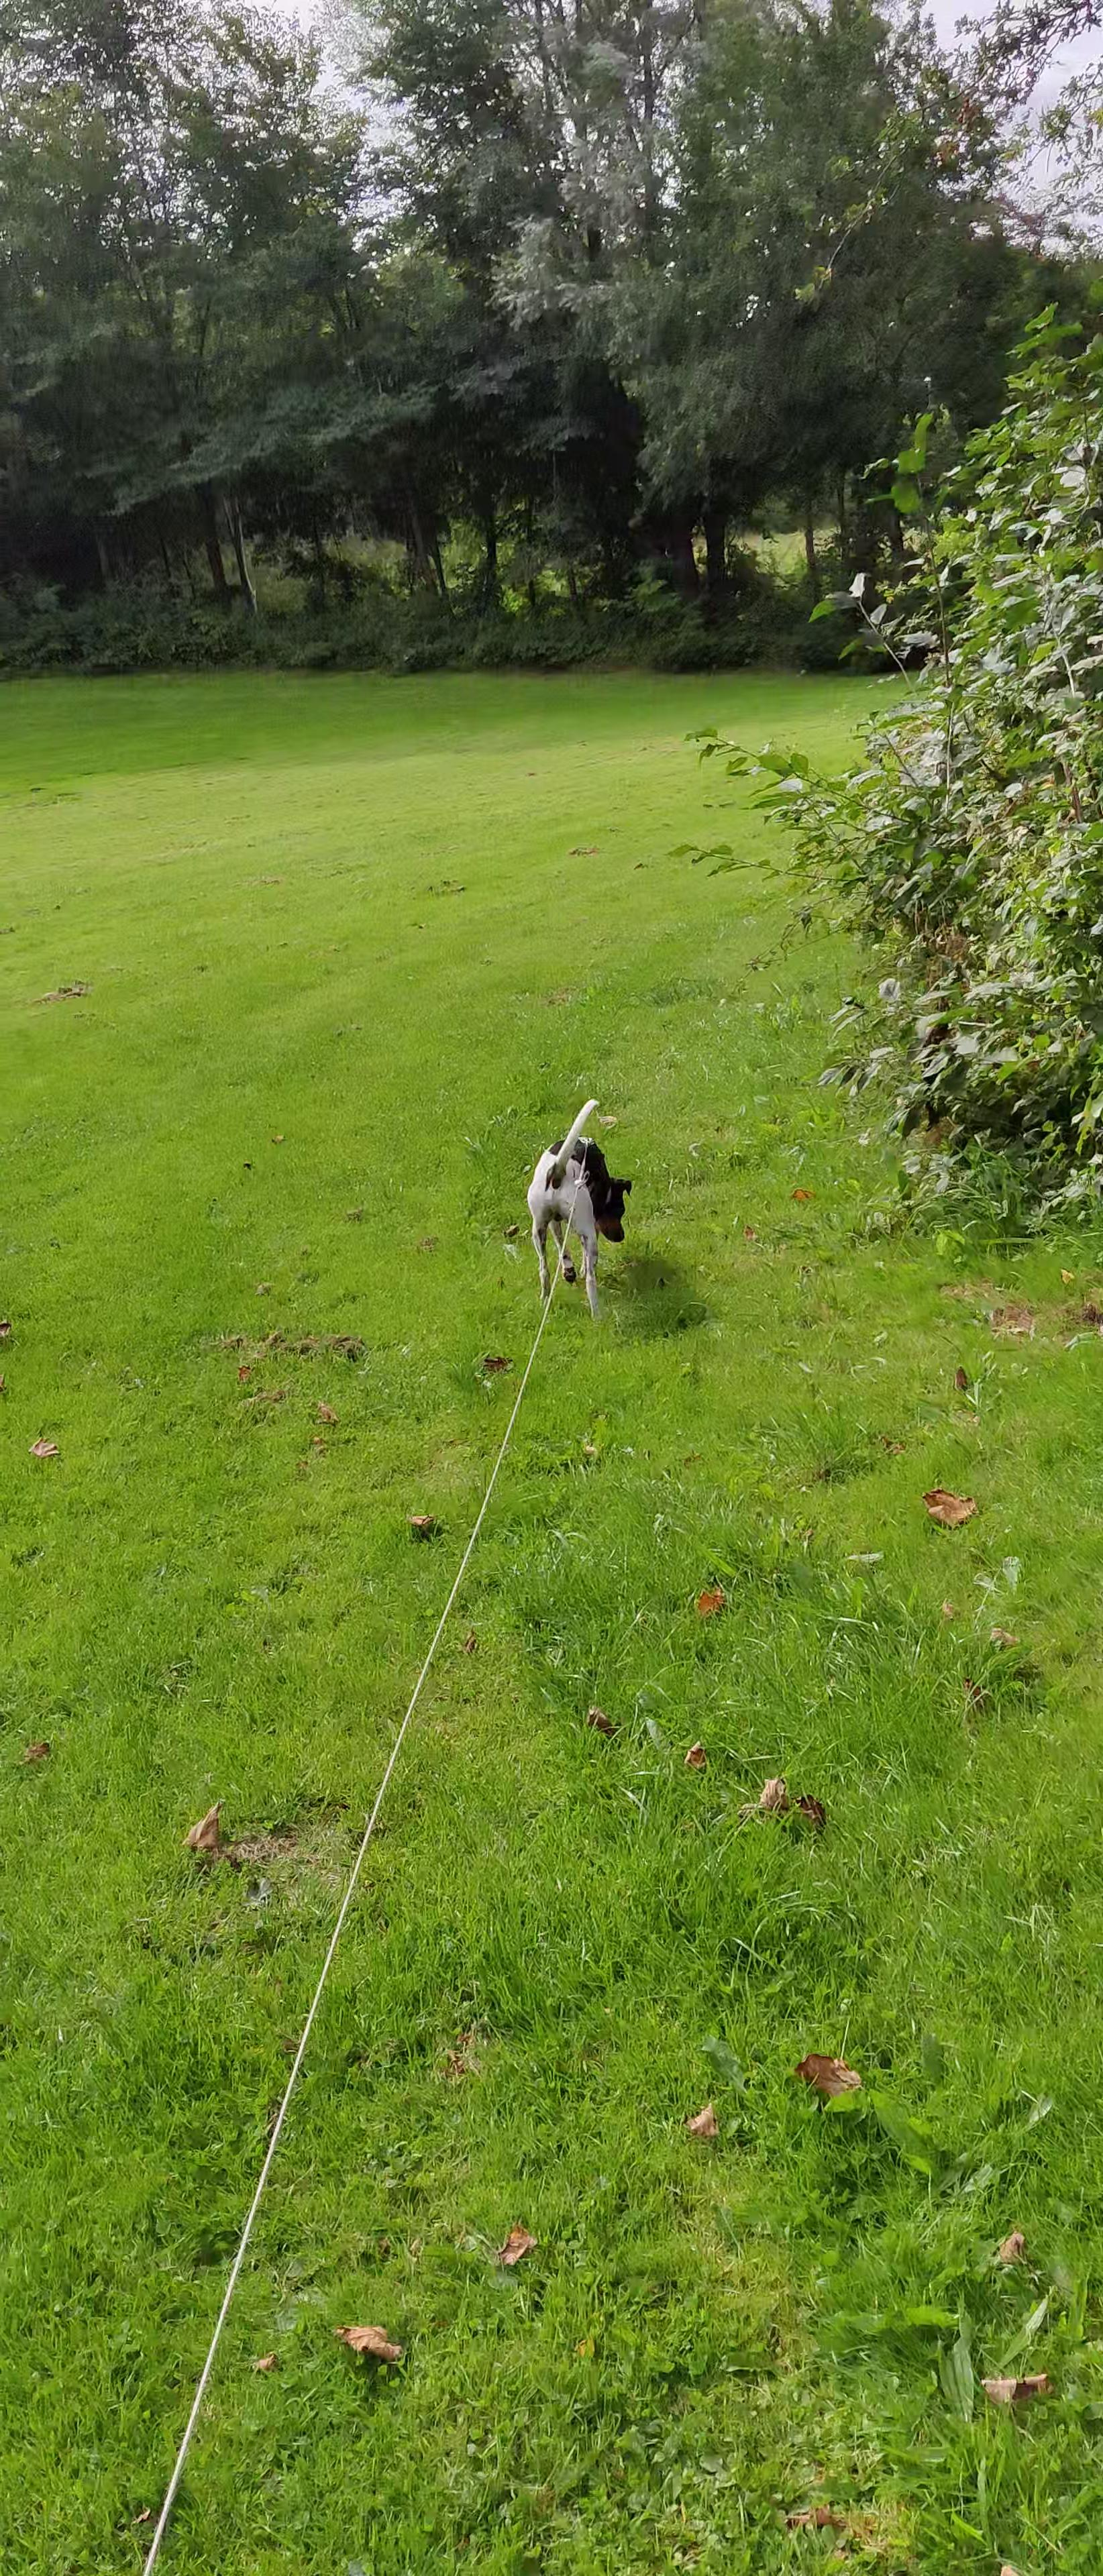Dog: (521, 1096, 636, 1334)
